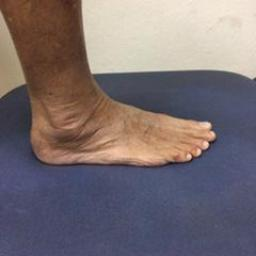Lateral View -Right Foot-: (15, 63, 223, 180)
